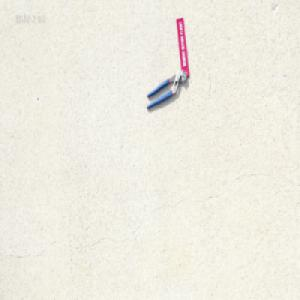Label: (175, 17, 189, 77)
Pliers: (145, 68, 187, 110)
